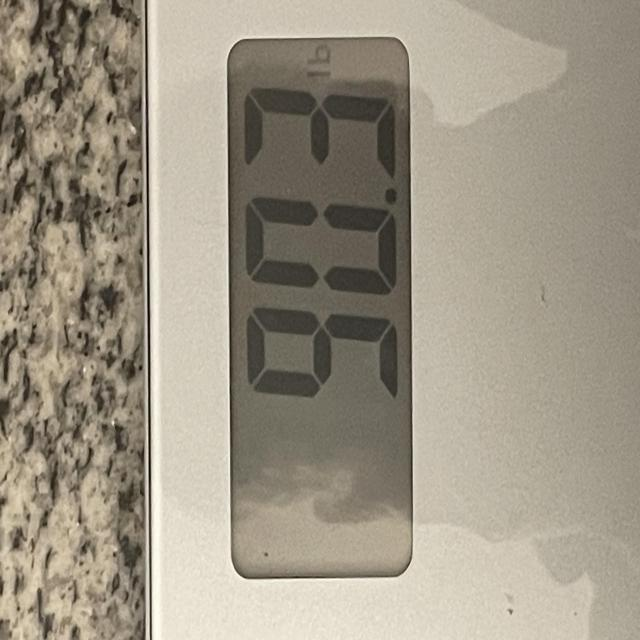ws: (225, 36, 415, 582)
